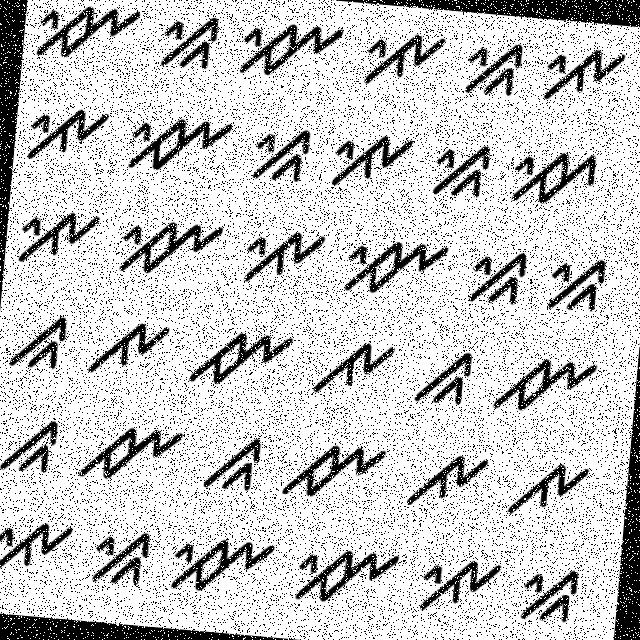a: (304, 328, 400, 410), (83, 312, 175, 388), (402, 446, 492, 520), (504, 451, 592, 524)
i: (353, 17, 448, 101), (232, 216, 328, 295), (410, 545, 503, 624), (538, 36, 634, 112), (321, 123, 416, 197), (18, 98, 112, 168), (8, 202, 102, 270), (0, 512, 78, 585)
ji: (505, 139, 606, 217)
ngga: (0, 301, 73, 388), (192, 430, 274, 500), (407, 339, 479, 417), (0, 410, 66, 488)
nggi: (146, 2, 225, 92), (83, 518, 158, 603), (448, 30, 532, 104), (242, 121, 318, 192), (458, 239, 532, 311), (517, 552, 586, 629), (428, 132, 494, 208), (546, 248, 614, 318)
nja: (70, 414, 186, 502), (484, 344, 603, 429), (186, 321, 296, 402), (278, 433, 389, 513)
nji: (120, 99, 238, 190), (230, 4, 345, 94), (329, 220, 452, 304), (284, 534, 406, 615), (25, 0, 144, 81), (161, 521, 278, 603), (110, 206, 226, 286)
